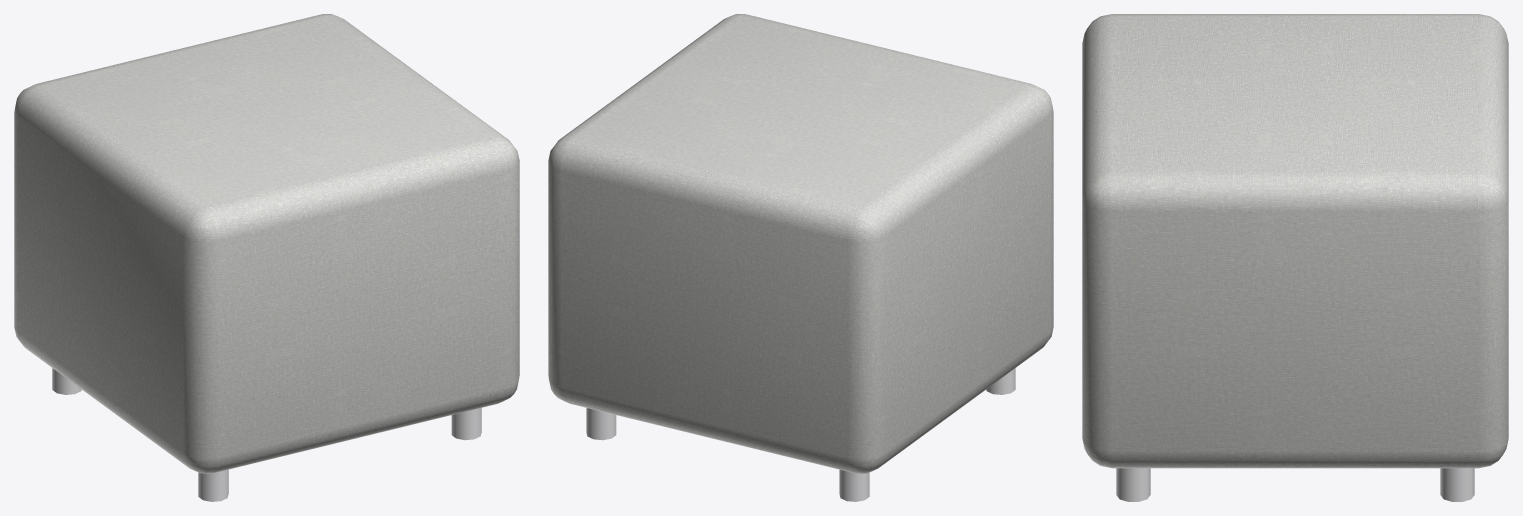
File: ottoman.gltf
3 views of the same model, side by side, from view 1: azimuth 30°, elevation 25°; view 2: azimuth 150°, elevation 25°; view 3: azimuth 270°, elevation 25° (orthographic). The views are drawn at different scales.
Visible parts, largest first — view 1: ottoman; view 2: ottoman; view 3: ottoman.
Part boxes in pixels (x1,y1,x2,y2): ottoman: (14, 14, 519, 501); ottoman: (548, 14, 1053, 501); ottoman: (1082, 14, 1508, 501).
Bounding box in the file's own units: 0.5 × 0.43 × 0.5.
Materials: 2 (1 with a texture image).
